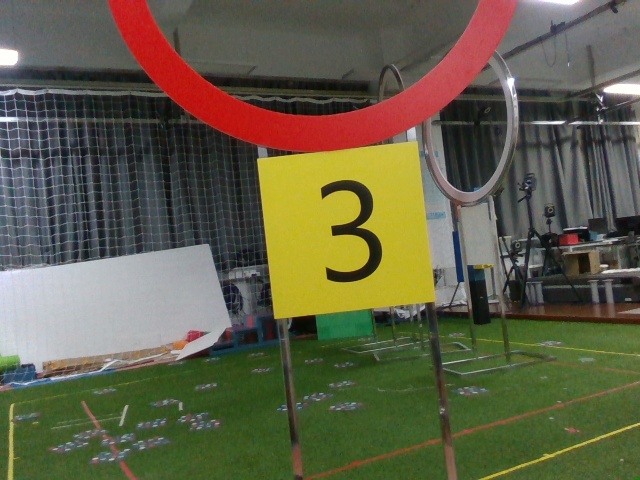target: (259, 151, 426, 305)
